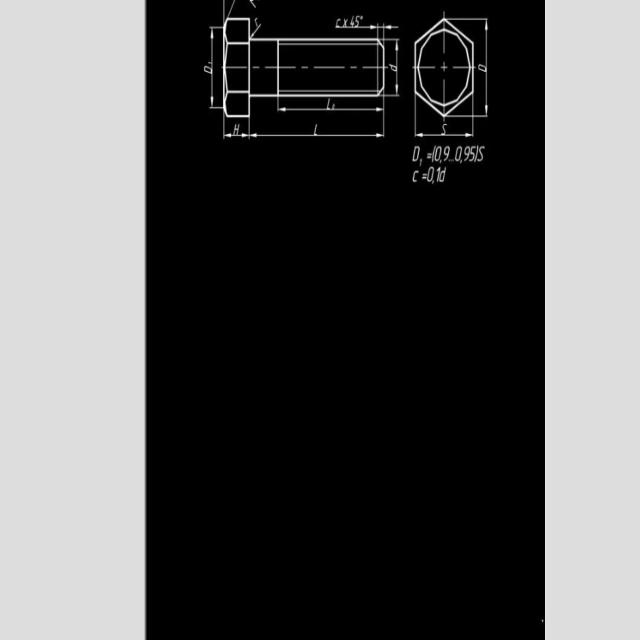marking_line: (251, 132, 383, 139), (484, 23, 490, 115), (416, 131, 474, 140), (276, 108, 383, 112), (210, 28, 214, 109), (334, 26, 376, 30), (396, 42, 399, 96), (385, 24, 399, 29), (225, 133, 248, 136)
